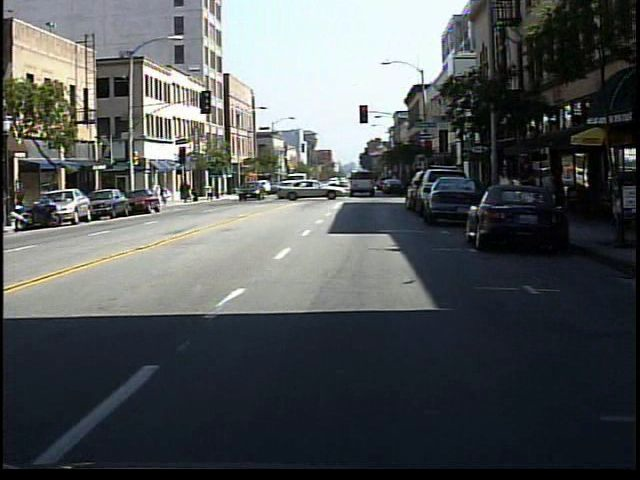person: (511, 152, 538, 240), (495, 161, 516, 232)
